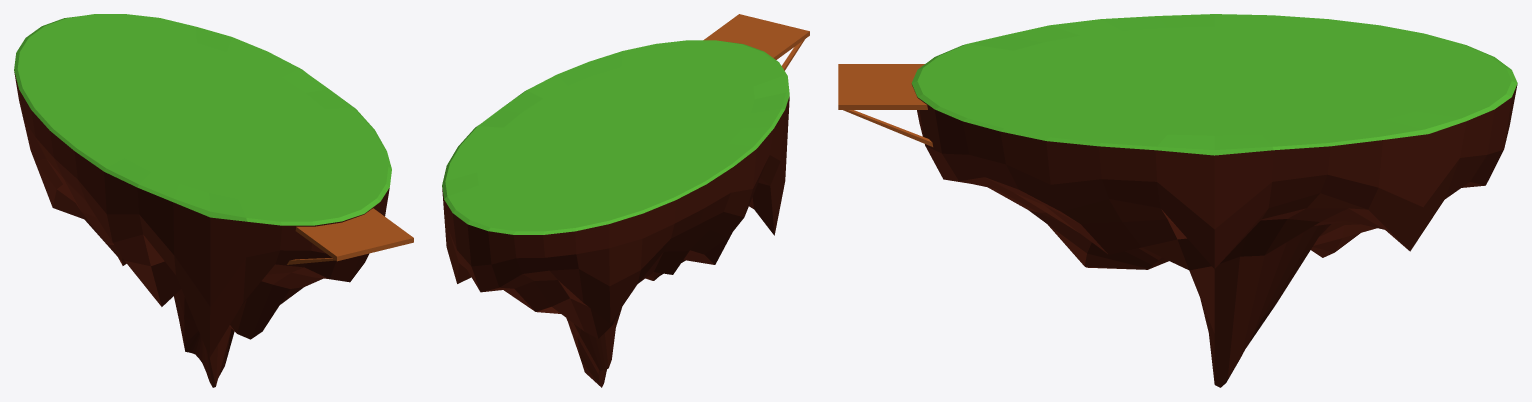
The model's file is Island+Platform.fbx.
3 renders of one model, left to right at view 1: azimuth 30°, elevation 25°; view 2: azimuth 150°, elevation 25°; view 3: azimuth 270°, elevation 25°, orthographic. The views are drawn at different scales.
Parts seen in each view (by area): view 1: Island+Platform; view 2: Island+Platform; view 3: Island+Platform.
Part boxes in pixels (x1,y1,x2,y2): Island+Platform: (14,14,413,387); Island+Platform: (442,14,809,387); Island+Platform: (838,14,1517,387).
Bounding box in the file's own units: 2673 × 2736 × 5612.
